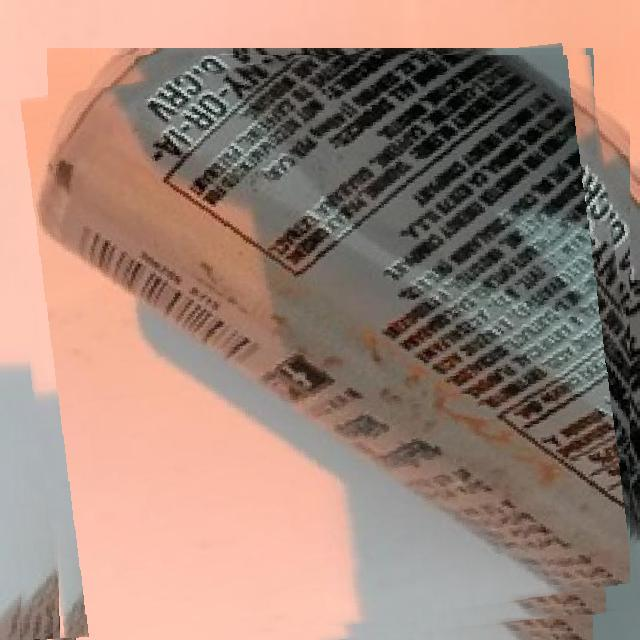recyclable: (9, 55, 630, 640)
